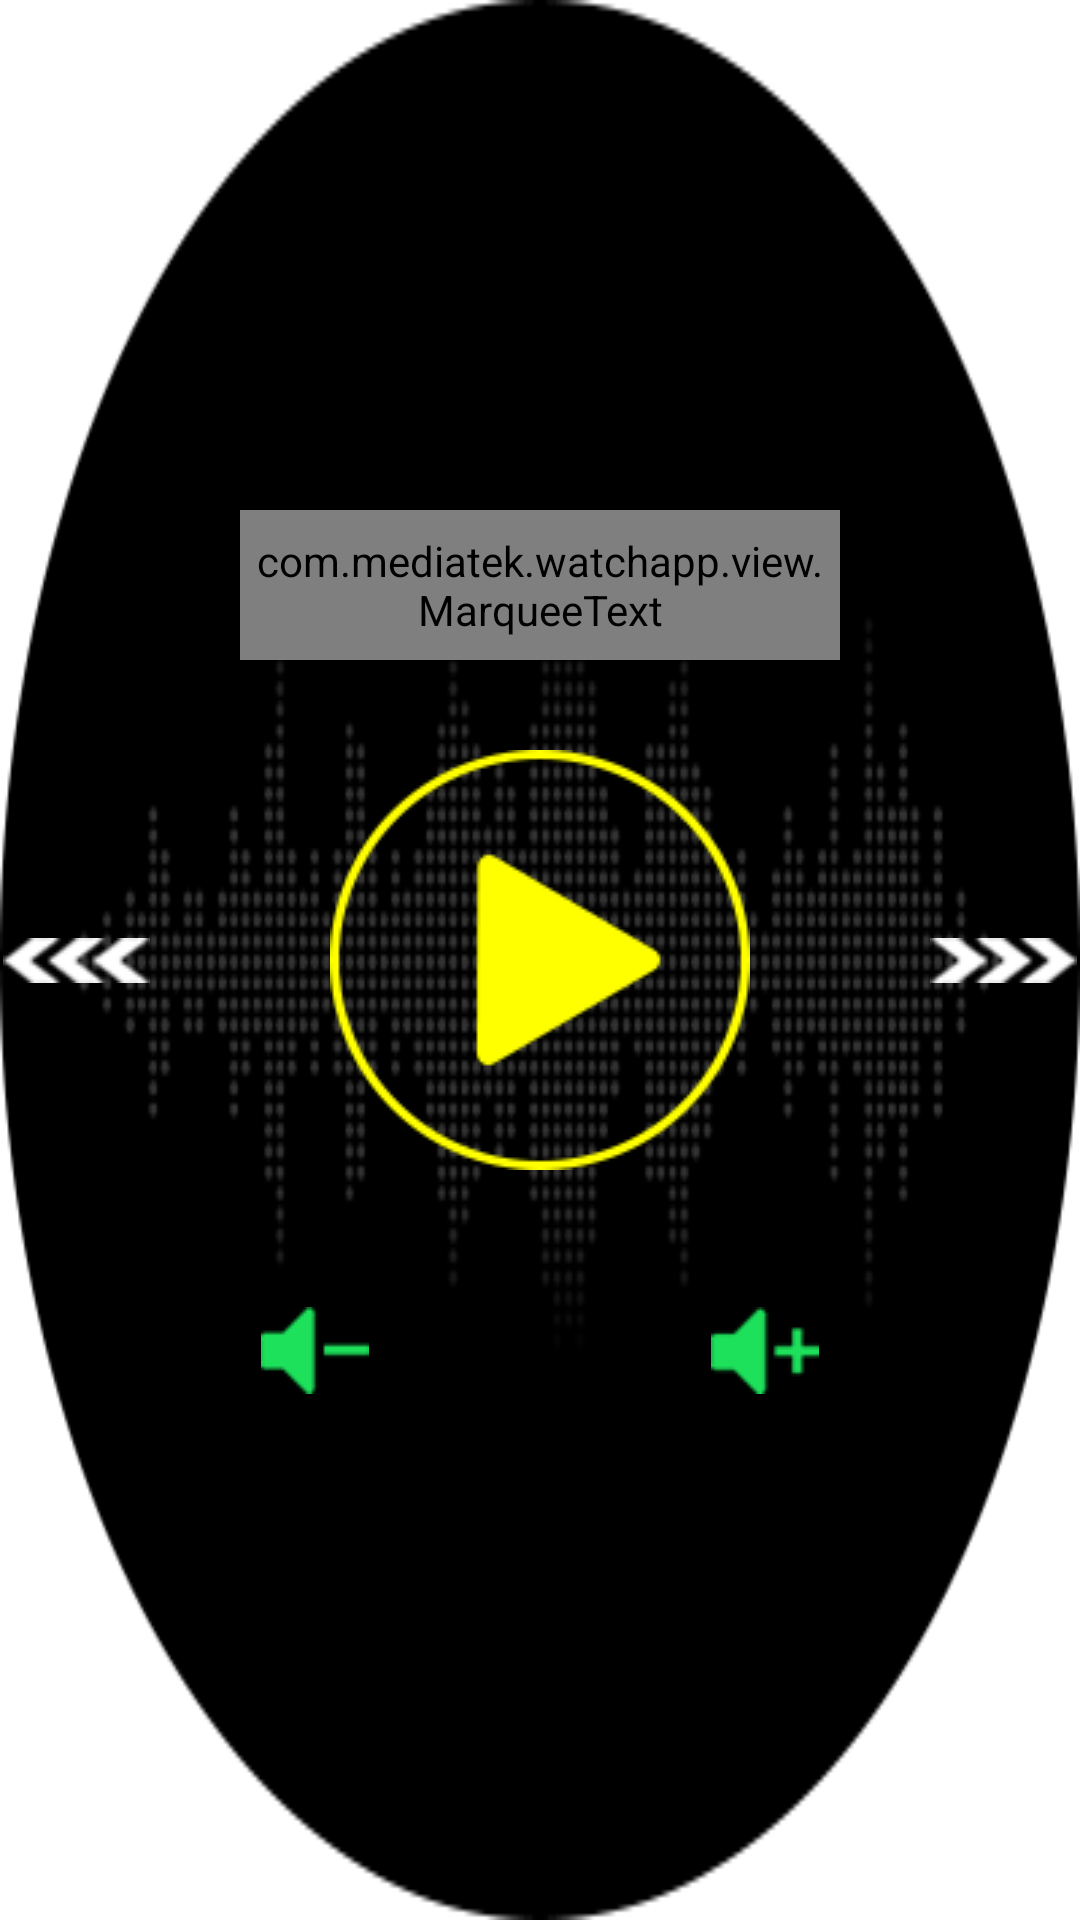

Screen size 1080×1920. Icon name, then its center in pixels as point (x, y):
vol down key: point (315, 1312)
vol up key: point (765, 1350)
